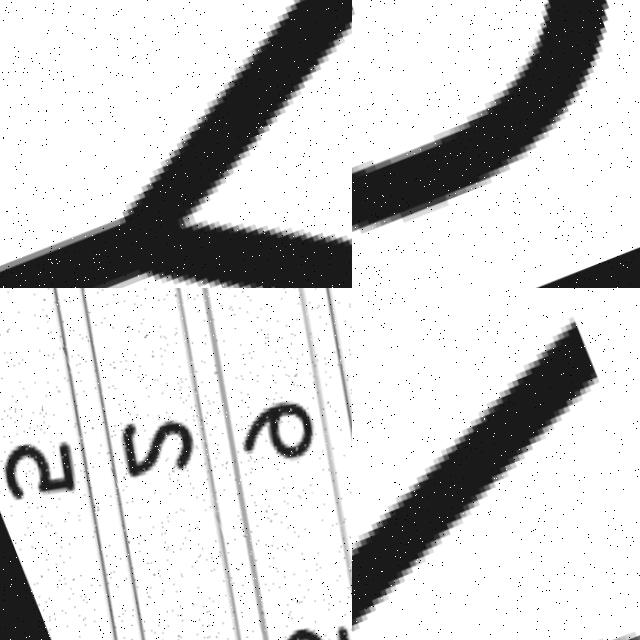2: (104, 397, 212, 497)
5: (0, 411, 95, 521), (264, 606, 352, 640), (142, 621, 251, 640)
9: (219, 375, 336, 491)
G: (352, 0, 640, 288)
V: (352, 310, 640, 640)
Y: (0, 0, 352, 288)
